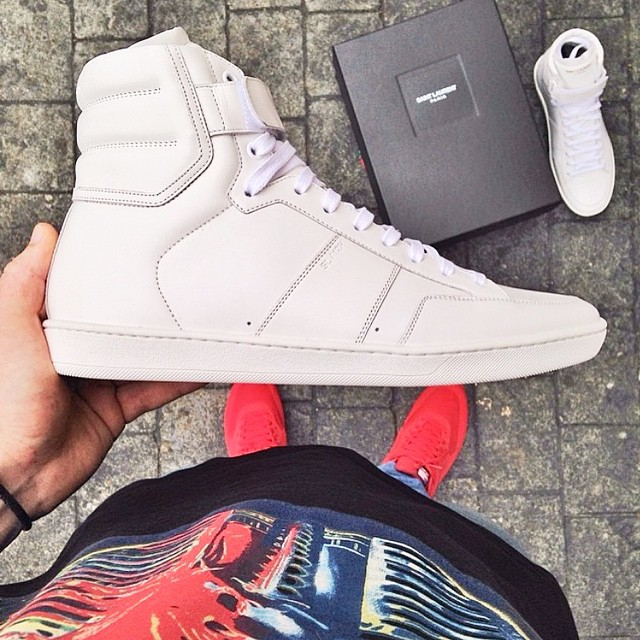sneaker: (365, 384, 501, 518), (208, 383, 297, 477)
